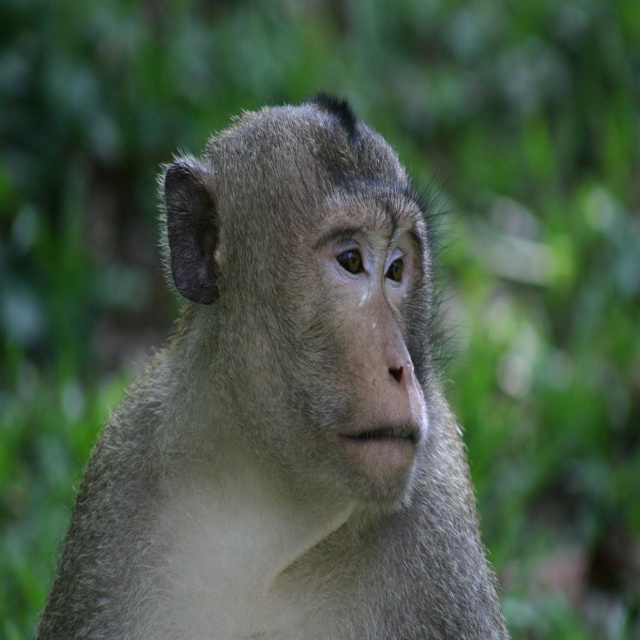Monkey: (43, 89, 511, 629)
